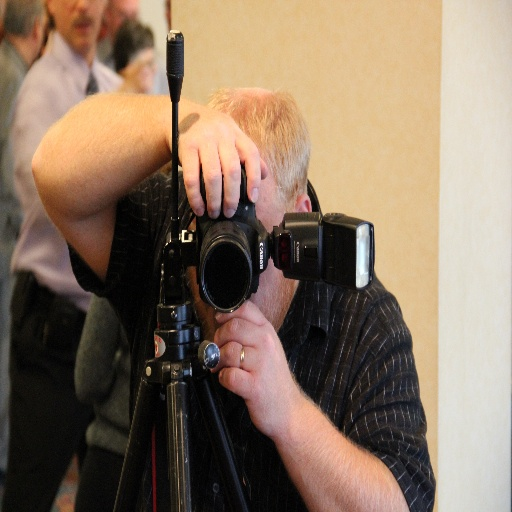hand: (209, 297, 298, 436), (180, 106, 262, 231)
